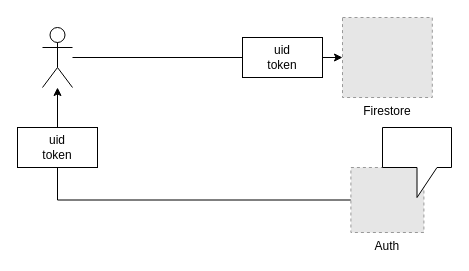
Some shapes in this 469 by 271 pixel diagram are drawn without their labels. Grey dashed boxes stand in for pictures. The shapes that lost their labels are listed below. From the top down, each one's centre as x and y in pixels, then its label:
At (x=57, y=57): "User".
At (x=417, y=162): "annonymus login".
